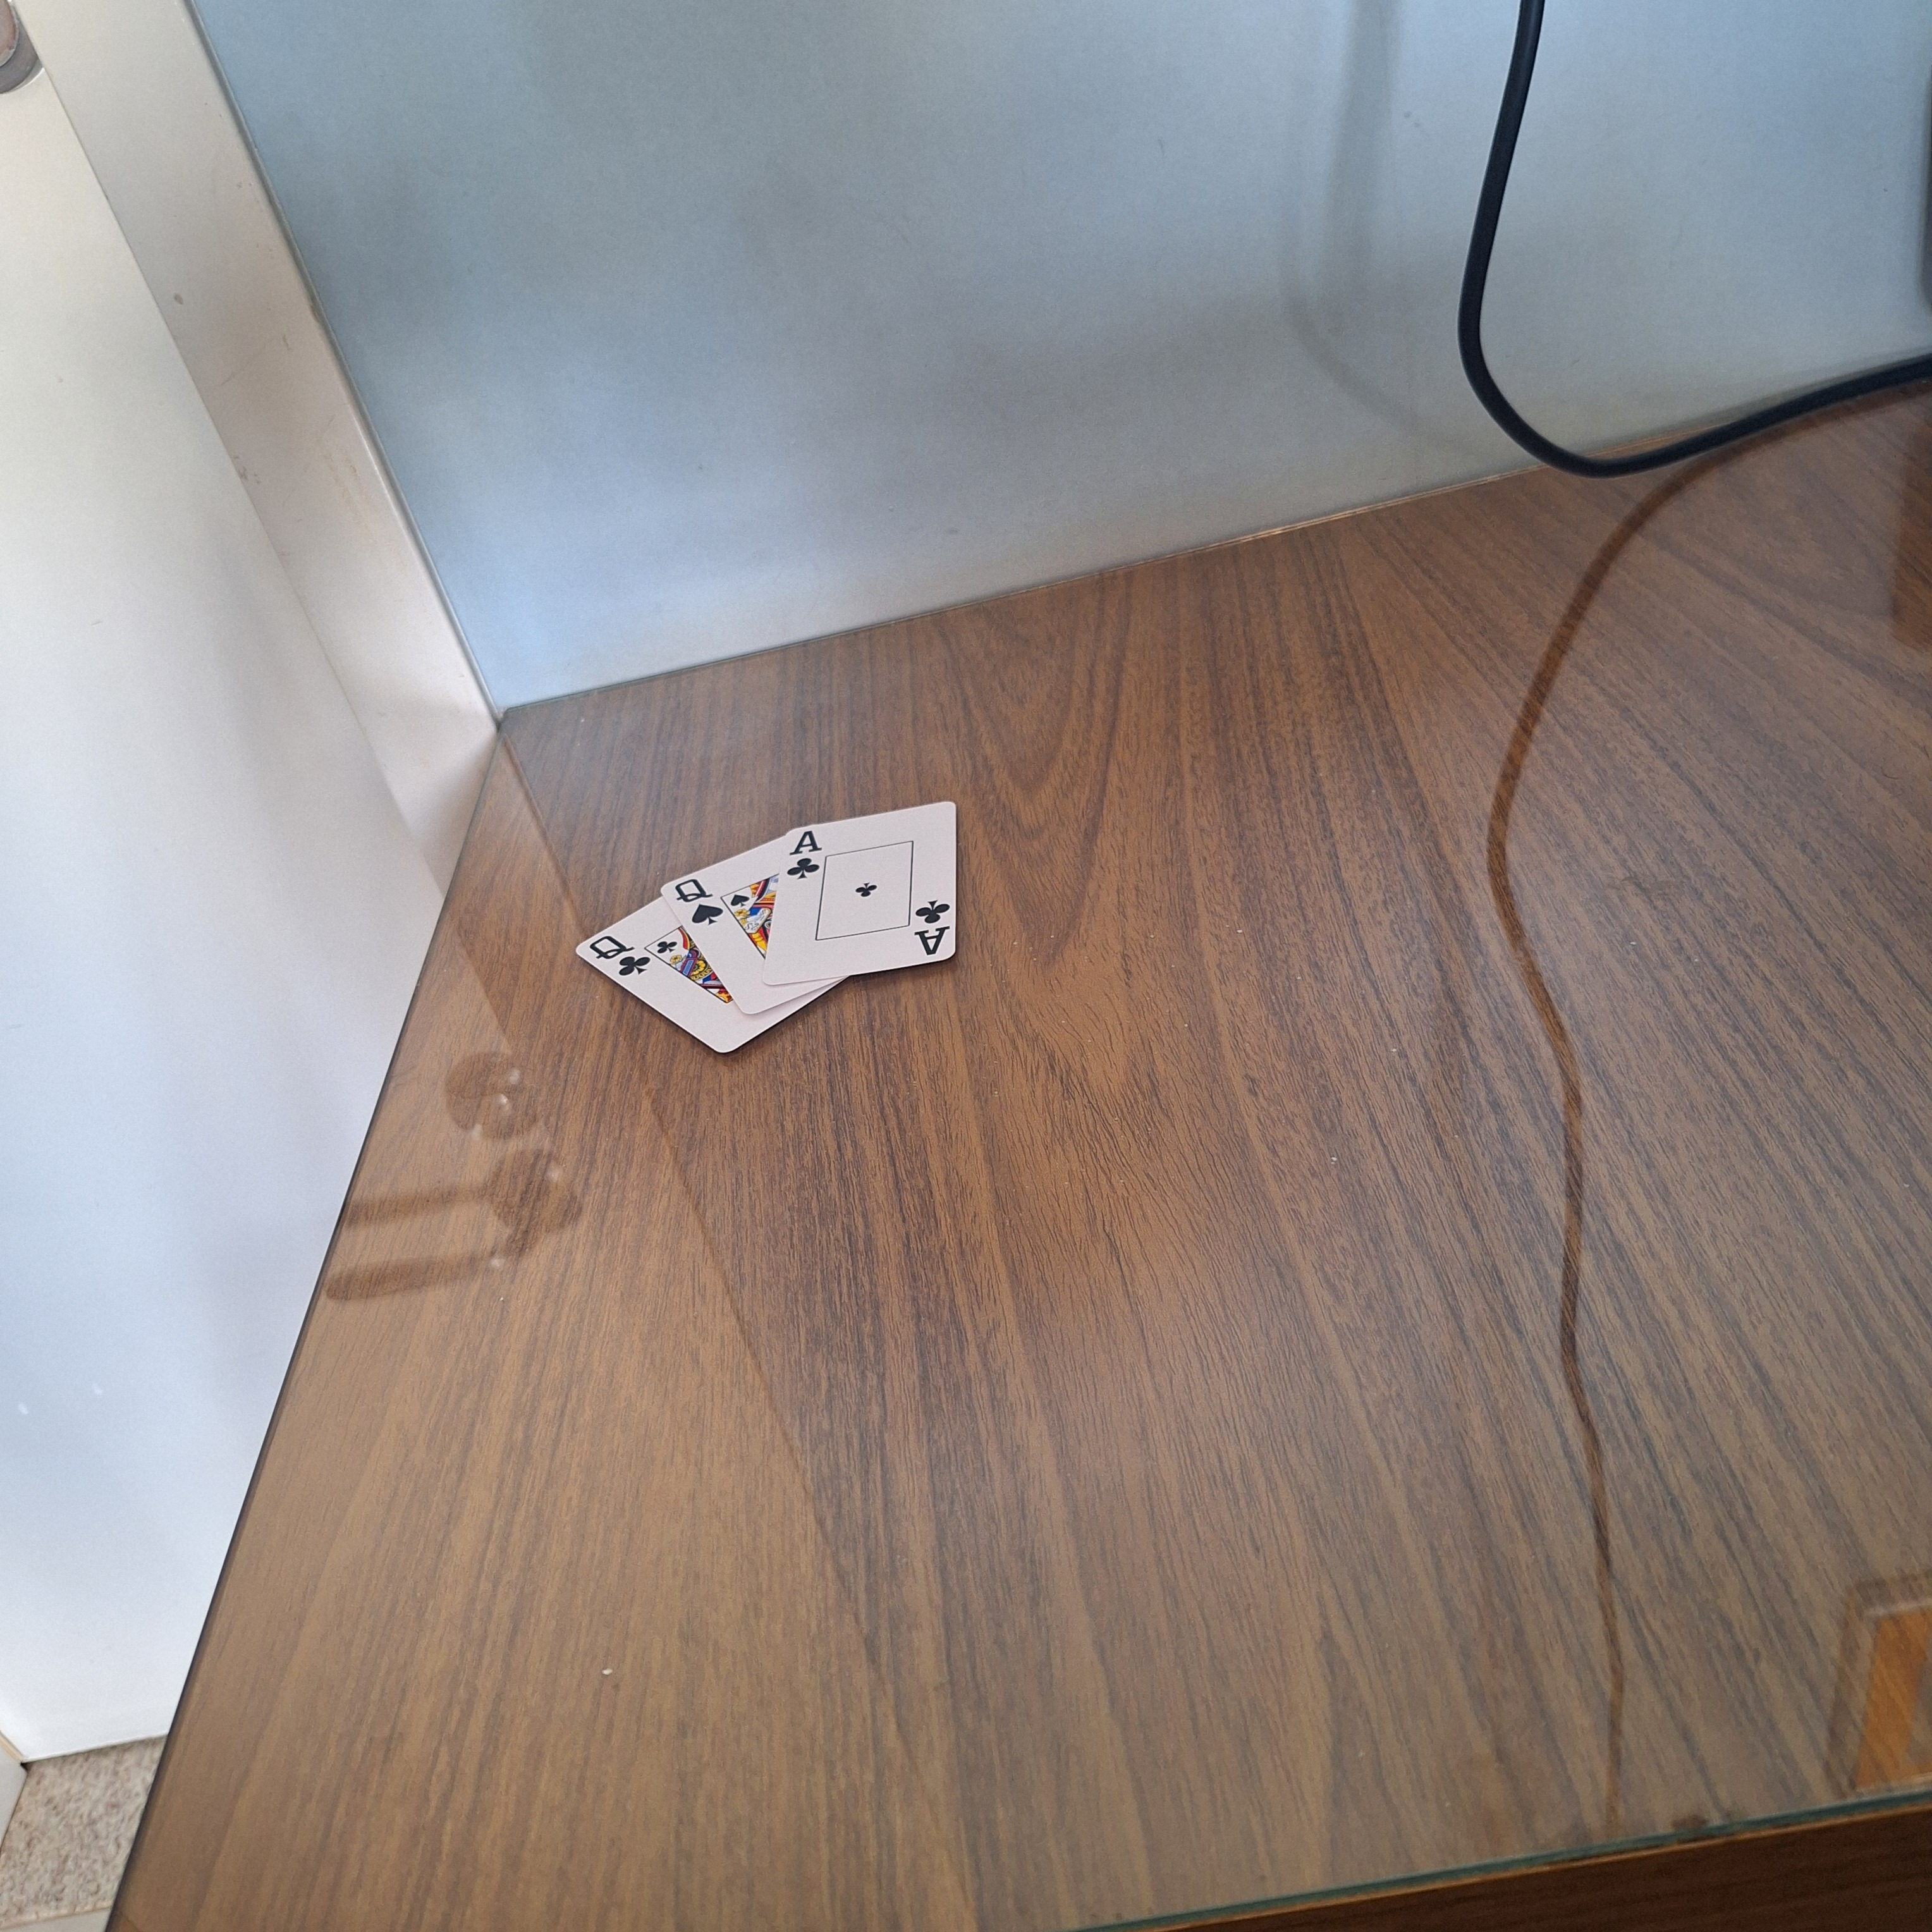AP: (909, 895, 959, 959), (782, 826, 824, 888)
QE: (665, 872, 729, 929)
QP: (579, 931, 653, 987)
